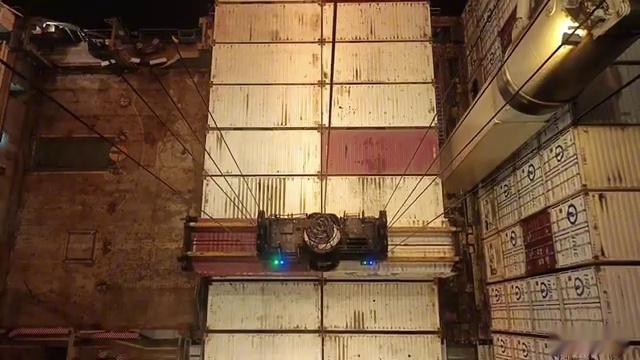container: (182, 216, 454, 282), (202, 175, 445, 225), (206, 281, 440, 331), (202, 127, 438, 176), (207, 84, 436, 130), (211, 39, 435, 79), (201, 334, 447, 360)
guide_mark: (107, 329, 516, 349), (80, 345, 555, 360)
spreader: (175, 210, 471, 273)
target_slot: (174, 205, 474, 279)
